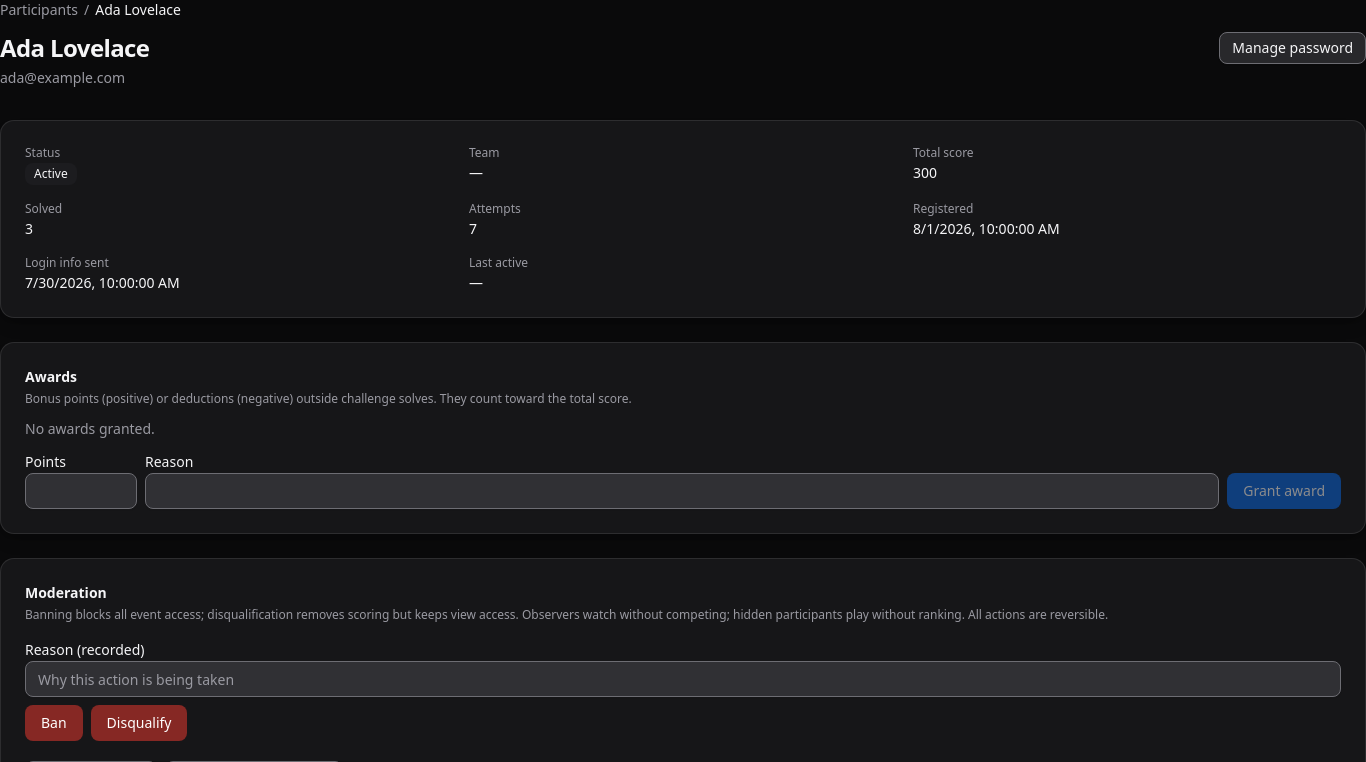
Scenario: ParticipantDetailPage › shows a generated participant password once and clears it when dismissed
This screenshot has width=1366, height=762.
Click the button "Manage password" at x=1293, y=48, box [1219, 32, 1365, 64]
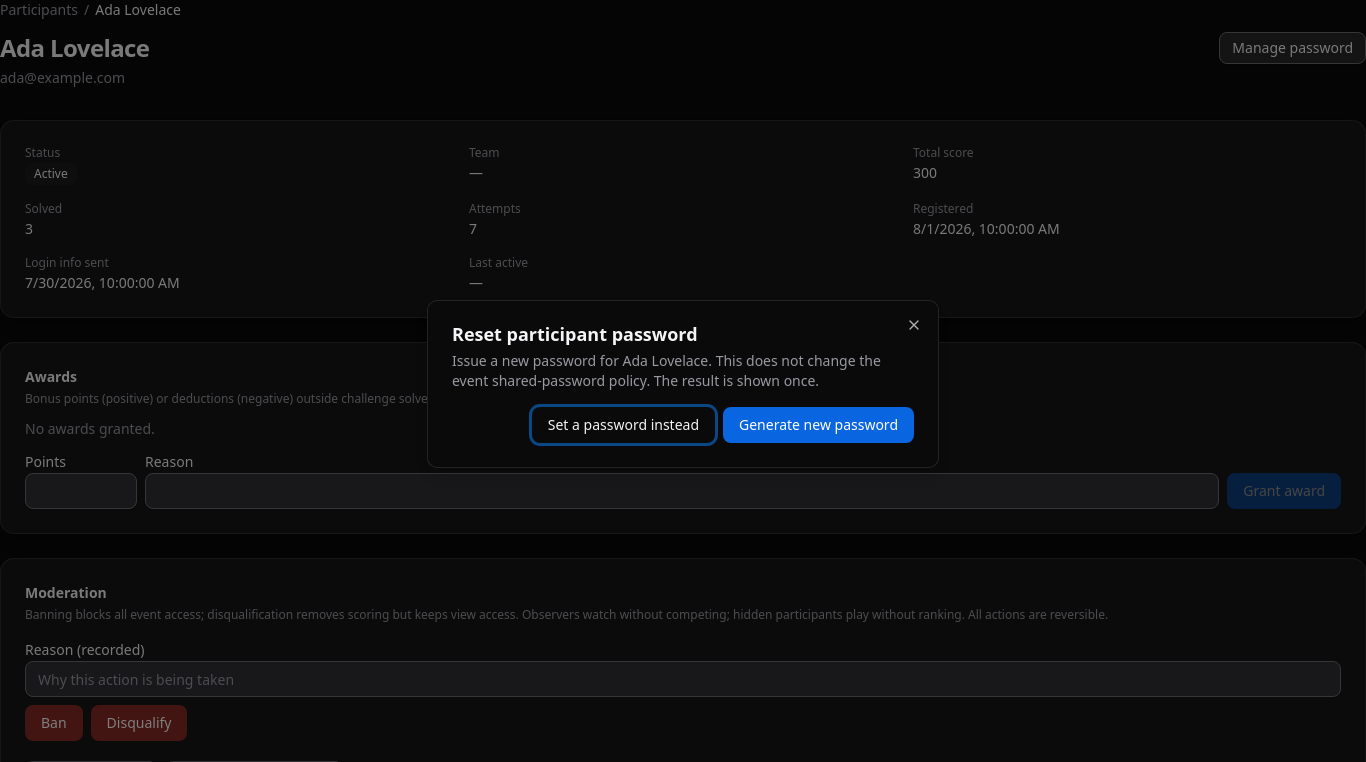
Expected: the dialog "Reset participant password" is shown, [427, 300, 939, 468]
Expected: the text "does not change the event shared-password policy" is shown, [452, 351, 881, 390]
Click the button "Generate new password" at x=818, y=425, box [723, 407, 914, 443]
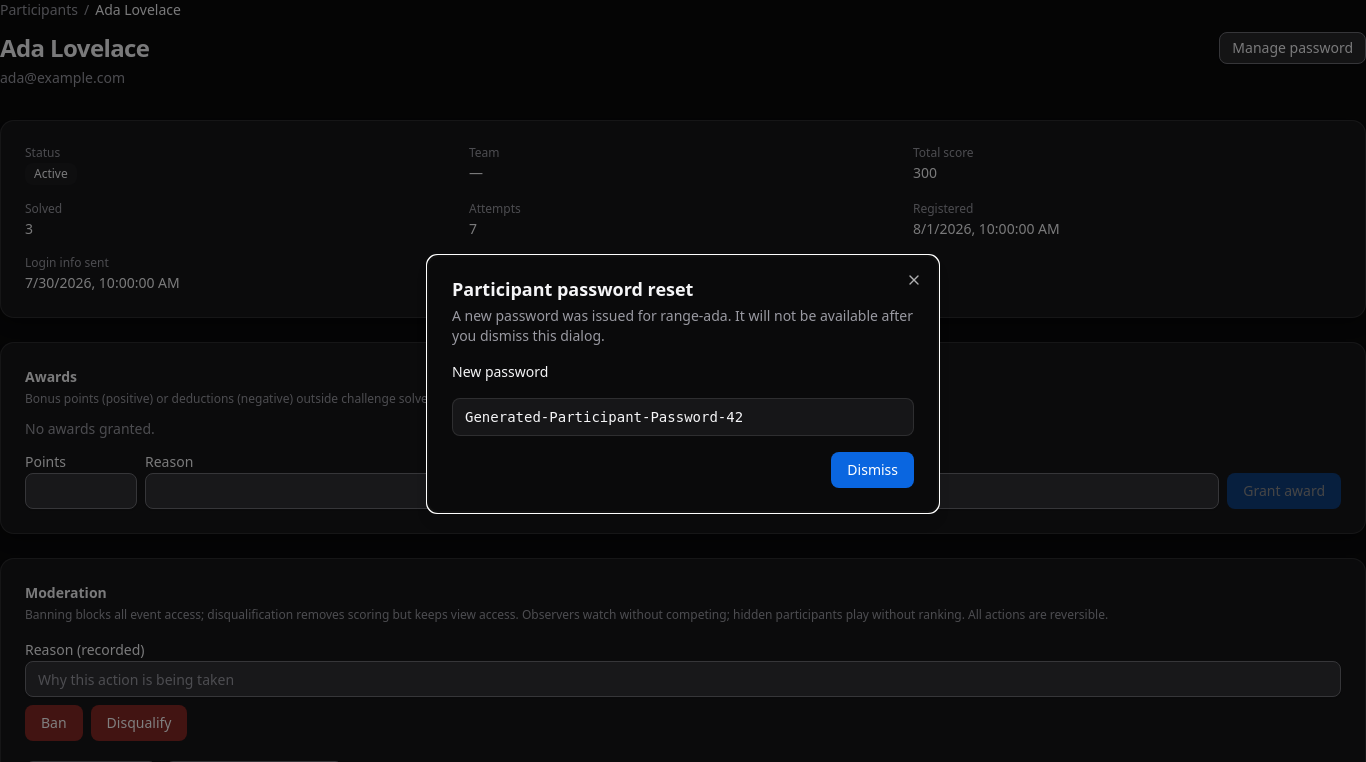
Expected: the text "Generated-Participant-Password-42" is shown, [452, 398, 914, 436]
Click the button "Dismiss" at x=873, y=470, box [831, 452, 914, 488]
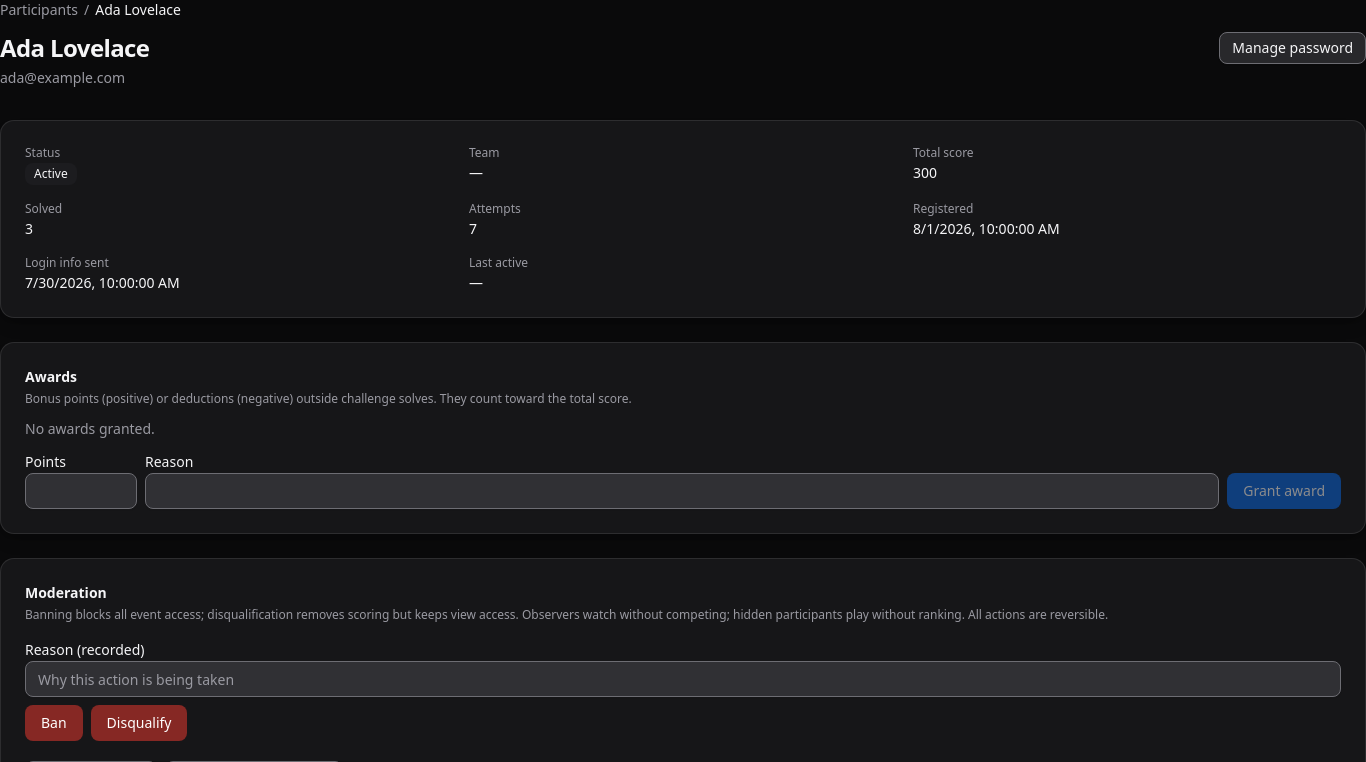
Expected: the text "Generated-Participant-Password-42" is gone
